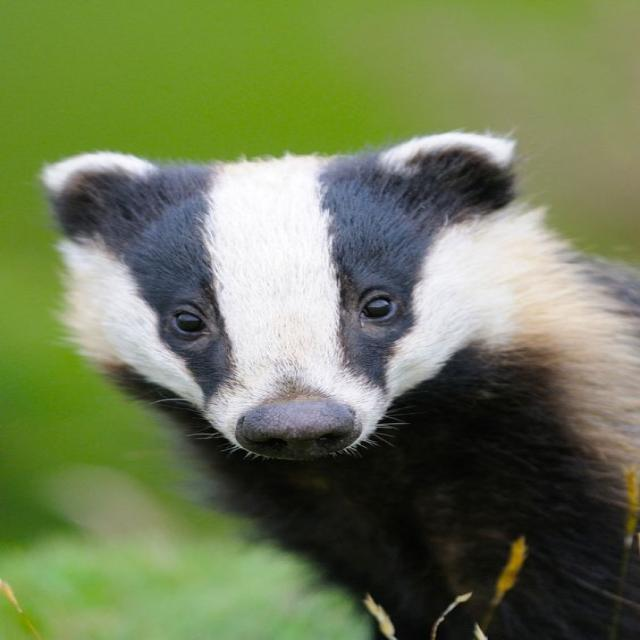Skunk: (3, 126, 639, 640)
